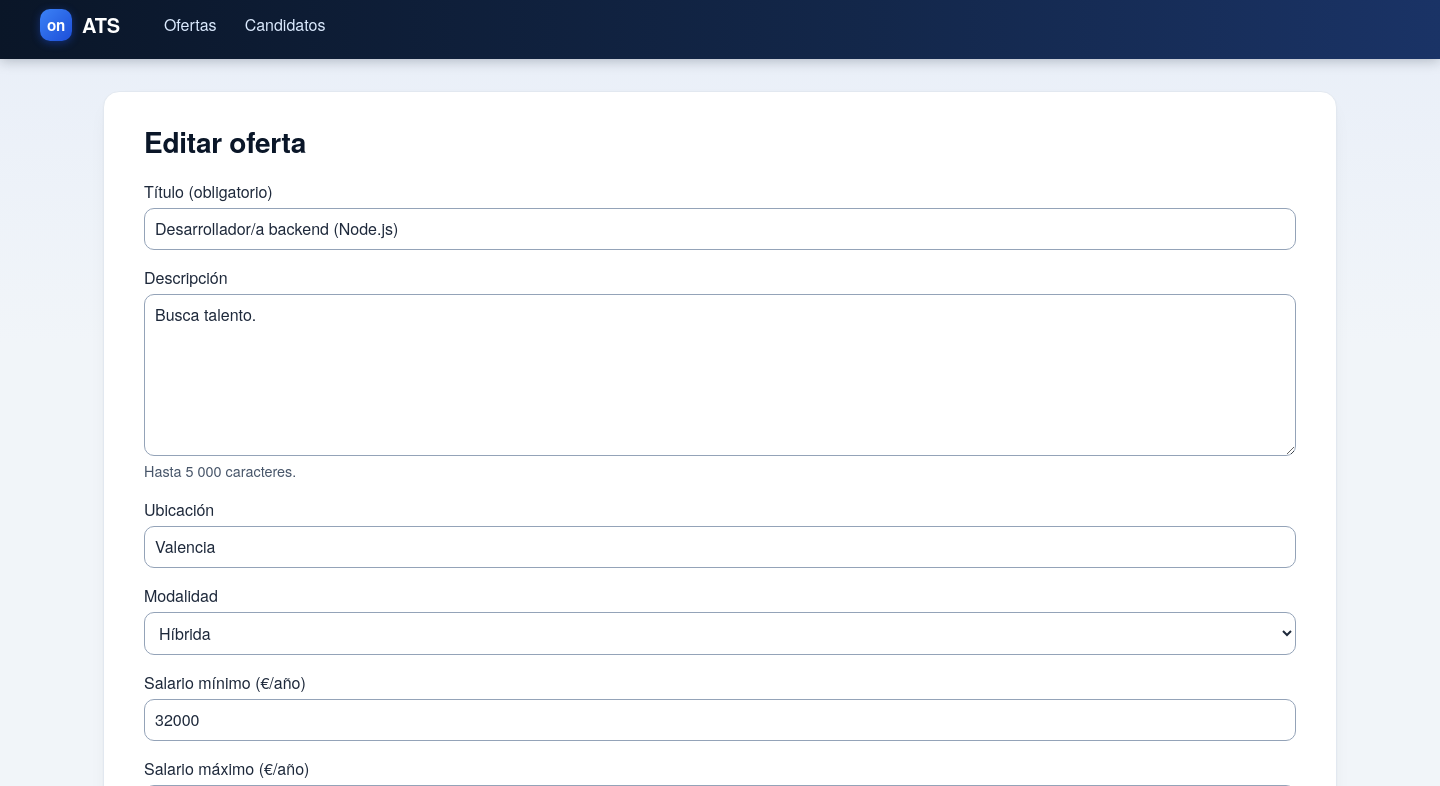
Test: JobFormScreen · edición › un 400 con title y workMode los pinta junto a cada campo y nada cambia (CA-12)
Expected: the heading "Editar oferta" is shown, [144,121,306,162]
Replace the text in the field labelled "Título (obligatorio)" with "Otro título" at [720, 229], box [144,208,1296,250]
(page scrolled)
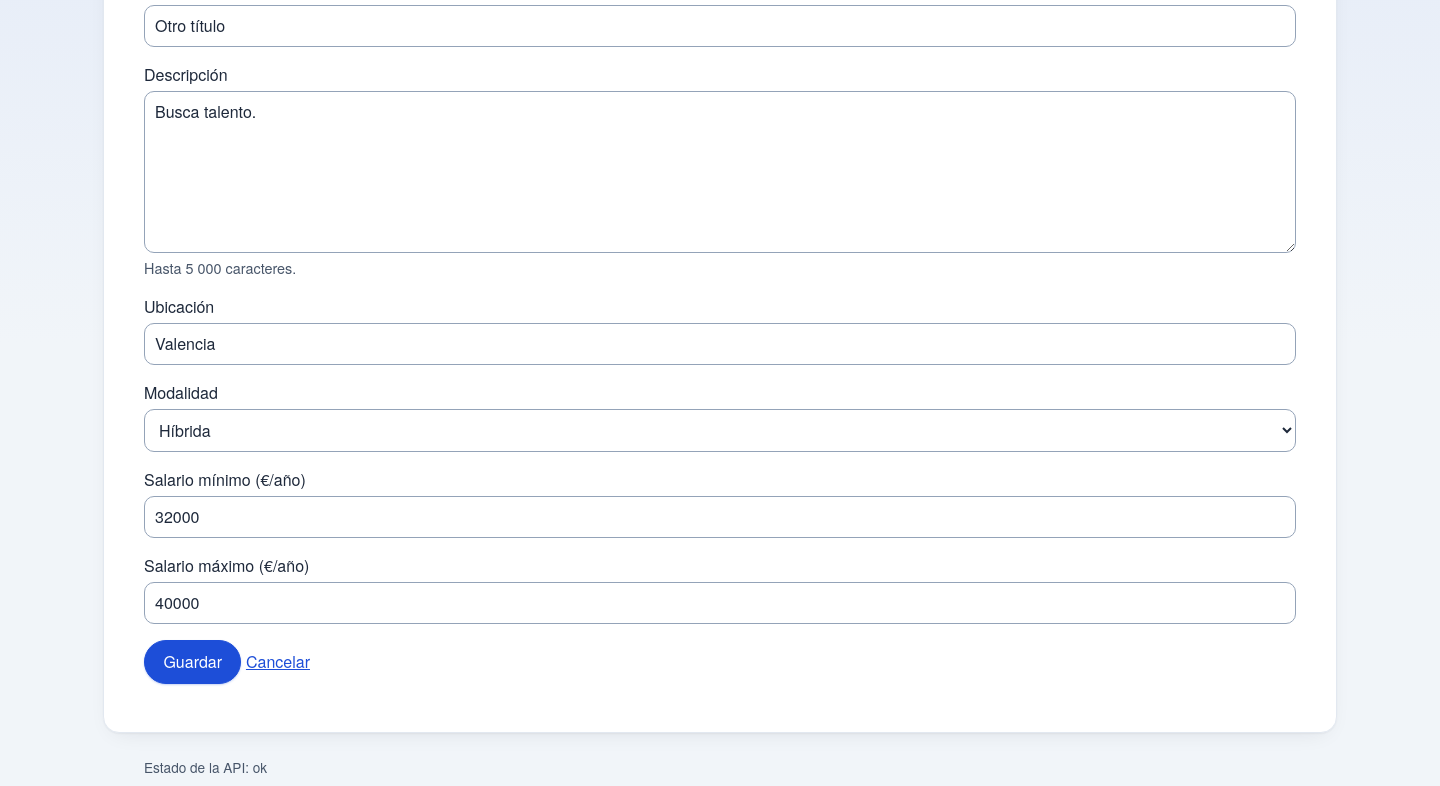
Click the button "Guardar" at [193, 662], box [144,640,242,684]
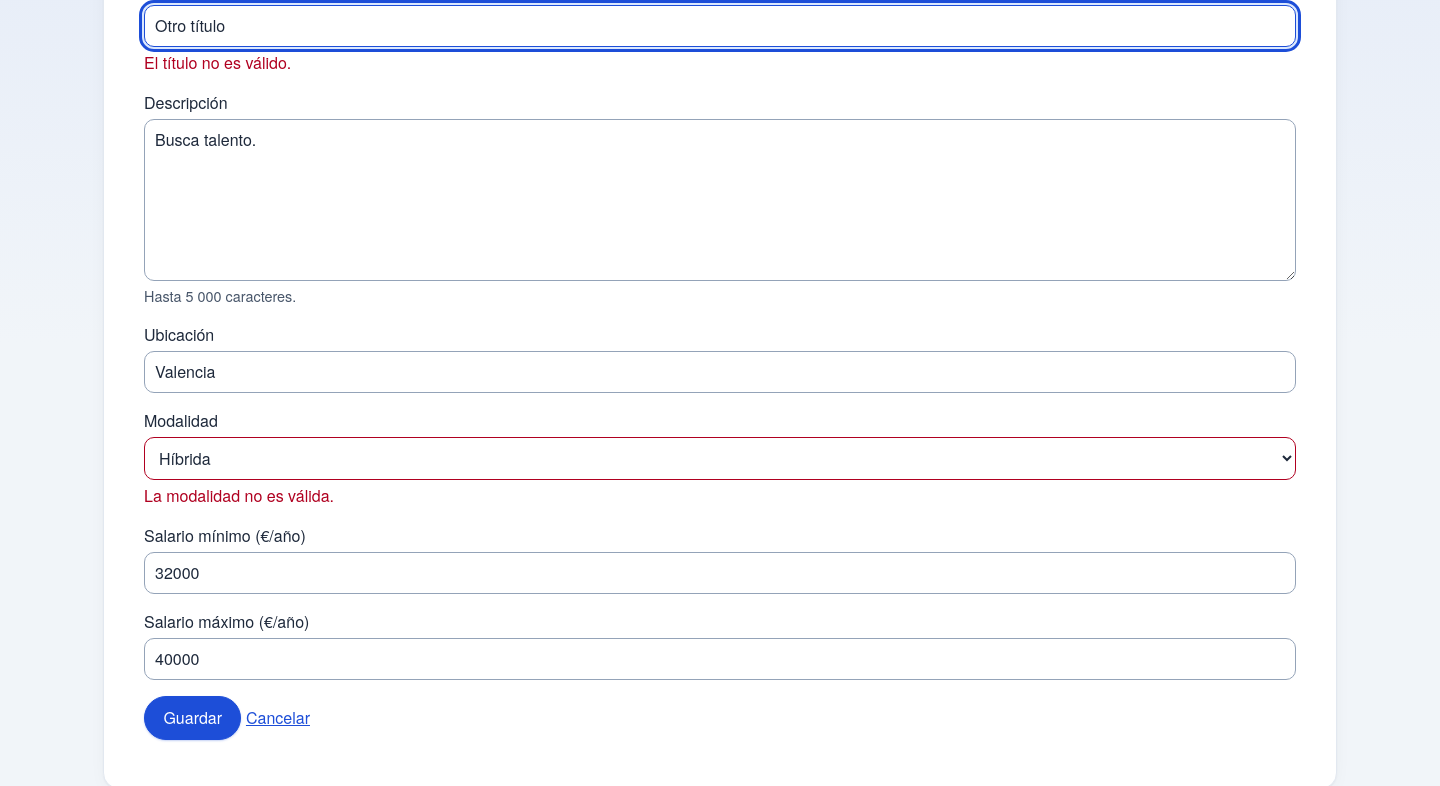
Expected: the text "El título no es válido." is shown, [144,51,291,74]
Expected: the text "La modalidad no es válida." is shown, [144,484,334,507]
